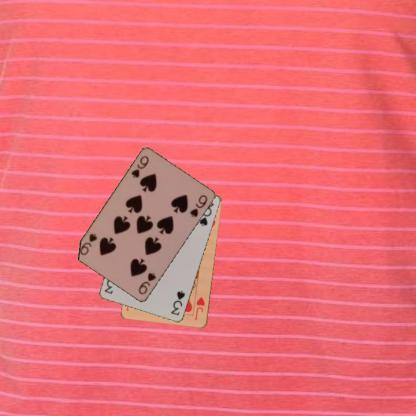3s: (168, 288, 187, 316)
9s: (136, 270, 158, 296), (128, 153, 150, 179)
Jh: (192, 294, 206, 321)
